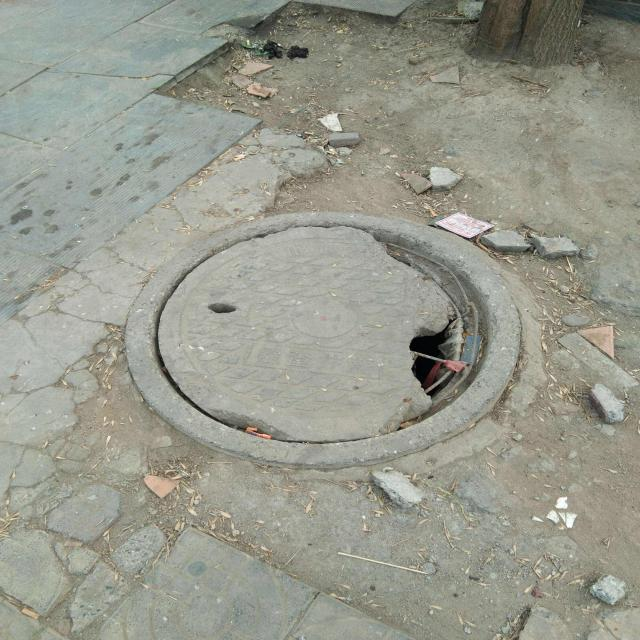Faulty: (121, 210, 521, 473)
